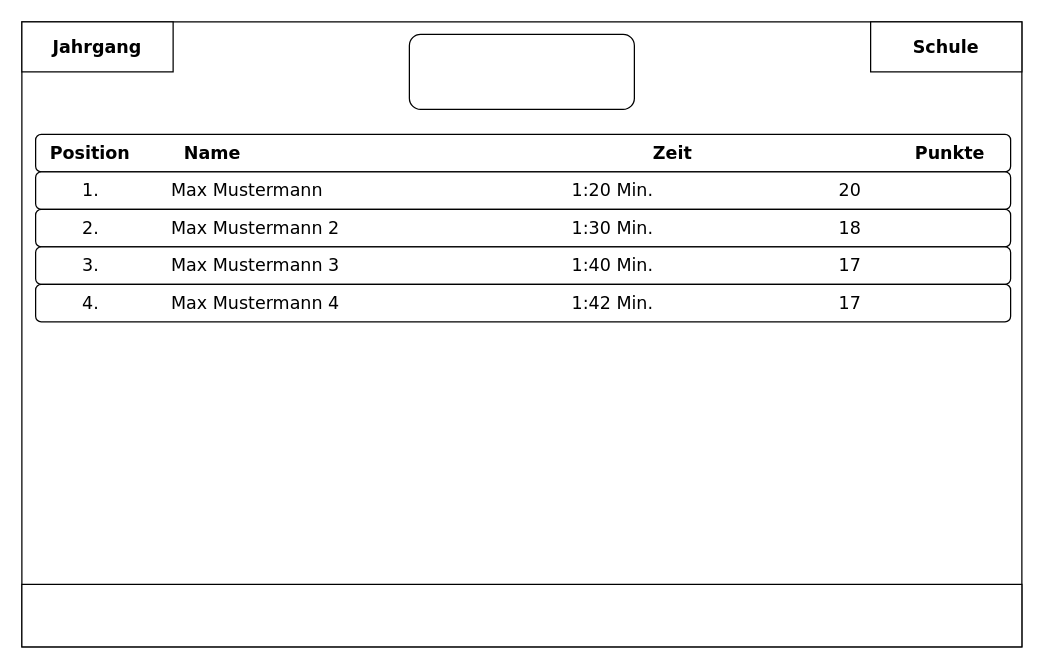
Image size: 1044x669. Some labels were removed from this diagram. Here are the shapes that lost their labels. From the top down, the centre of each, then its label:
(x=521, y=71): Scoreboard
(x=521, y=615): Dashboard Scoreboard Profil
